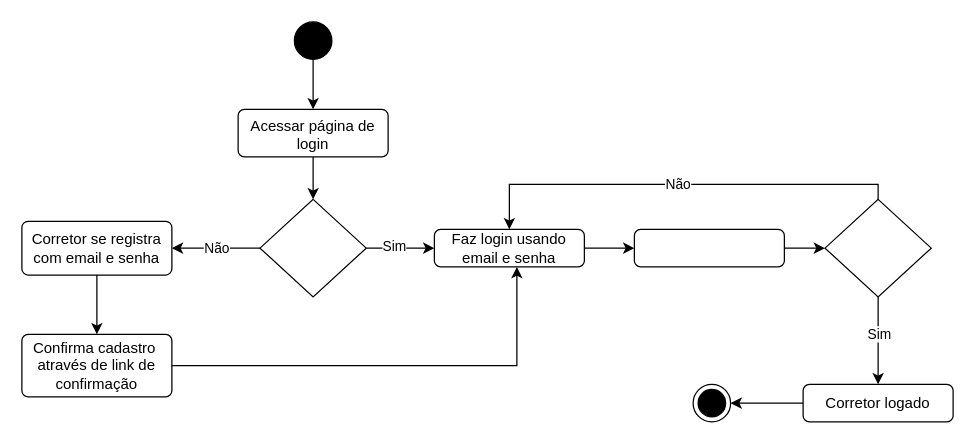
The diagram is 975 pixels wide and 444 high, and some of its shapes have lost their labels. Here are the shapes that lost their labels. From the top down, the box of each, then its label:
(259, 198, 366, 297): Tem cadastro?
(633, 228, 784, 267): Valida login
(824, 198, 931, 297): Login válido?
